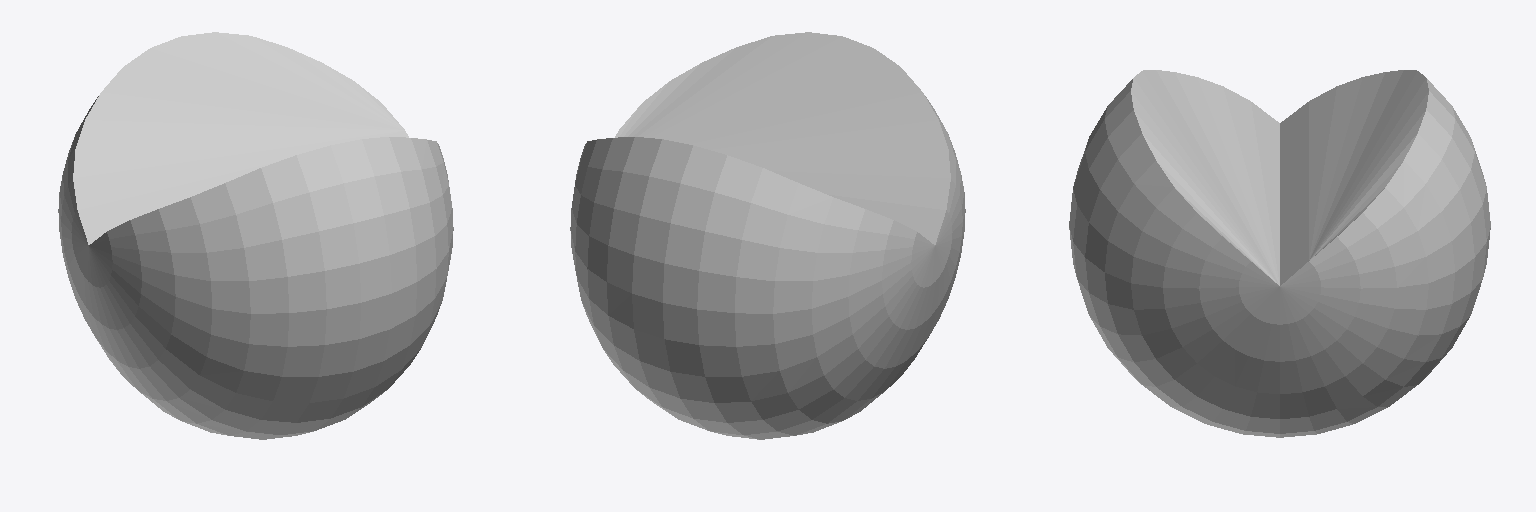
The model's file is body.obj.
The picture shows the model from 3 angles: view 1: azimuth 30°, elevation 25°; view 2: azimuth 150°, elevation 25°; view 3: azimuth 270°, elevation 25°; orthographic projection.
Parts seen in each view (by area): view 1: Sphere.000; view 2: Sphere.000; view 3: Sphere.000.
Part boxes in pixels (left/top/right/bottom): Sphere.000: left=58, top=32, right=453, bottom=439; Sphere.000: left=570, top=32, right=965, bottom=439; Sphere.000: left=1069, top=70, right=1490, bottom=437.
Size of the model in its own units: 1.93 by 1.83 by 2.11.